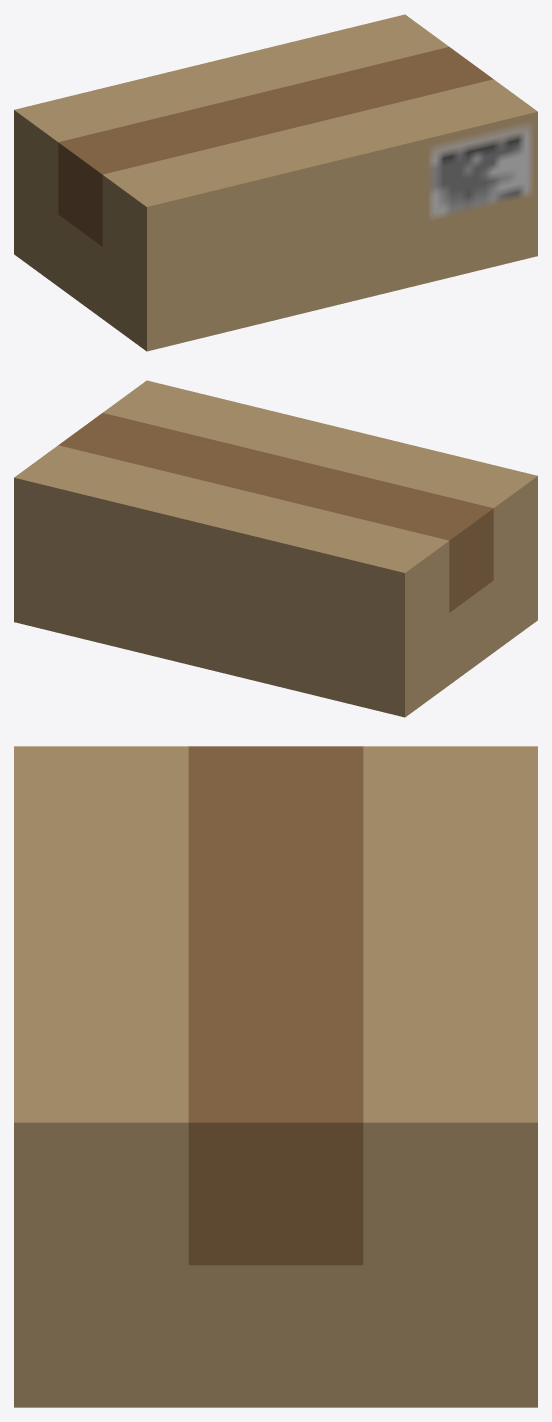
The model's file is SM_Props_Interior_Generic_Warehouse_Carton_Box_03.fbx.
3 views of the same model, one above another, from view 1: azimuth 30°, elevation 25°; view 2: azimuth 150°, elevation 25°; view 3: azimuth 270°, elevation 25° (orthographic). The views are drawn at different scales.
Parts seen in each view (by area): view 1: SM_Props_Interior_Generic_Warehouse_Carton_Box_03; view 2: SM_Props_Interior_Generic_Warehouse_Carton_Box_03; view 3: SM_Props_Interior_Generic_Warehouse_Carton_Box_03.
Boxes of the visible parts, bbox=[...] form: SM_Props_Interior_Generic_Warehouse_Carton_Box_03: bbox=[14, 14, 537, 351]; SM_Props_Interior_Generic_Warehouse_Carton_Box_03: bbox=[14, 380, 537, 717]; SM_Props_Interior_Generic_Warehouse_Carton_Box_03: bbox=[14, 746, 537, 1407].
Size of the model in its own units: 40.8 by 14.4 by 24.
